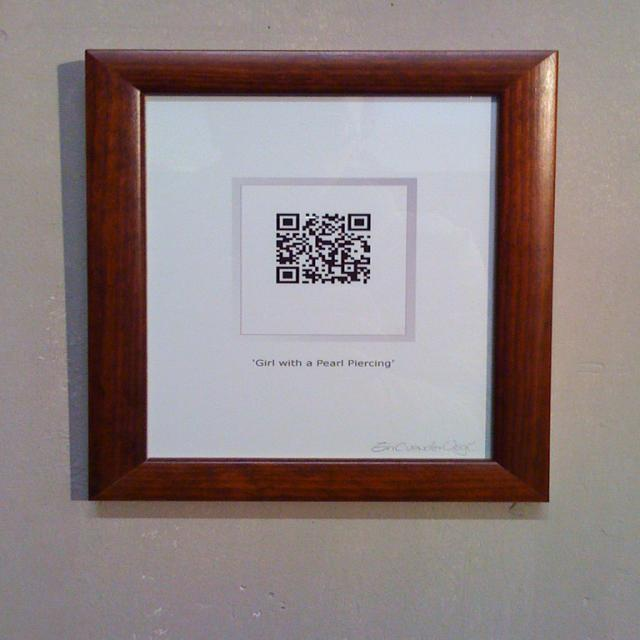qr-code: (276, 214, 370, 284)
